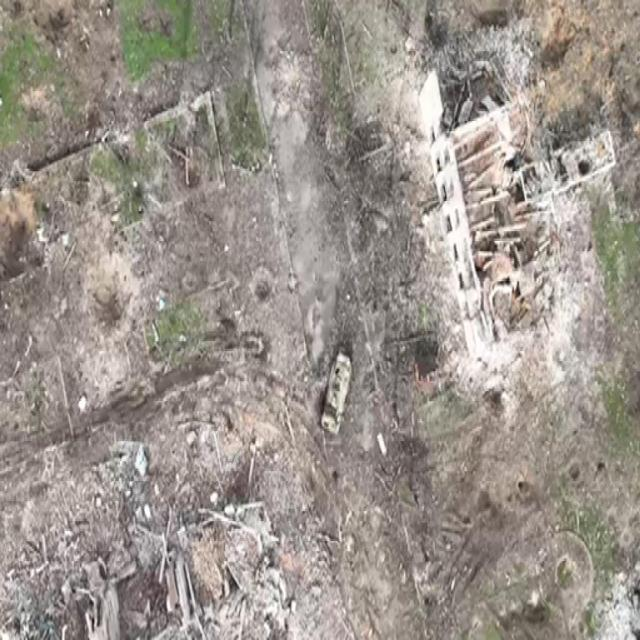APC-IFV: (312, 340, 352, 440)
